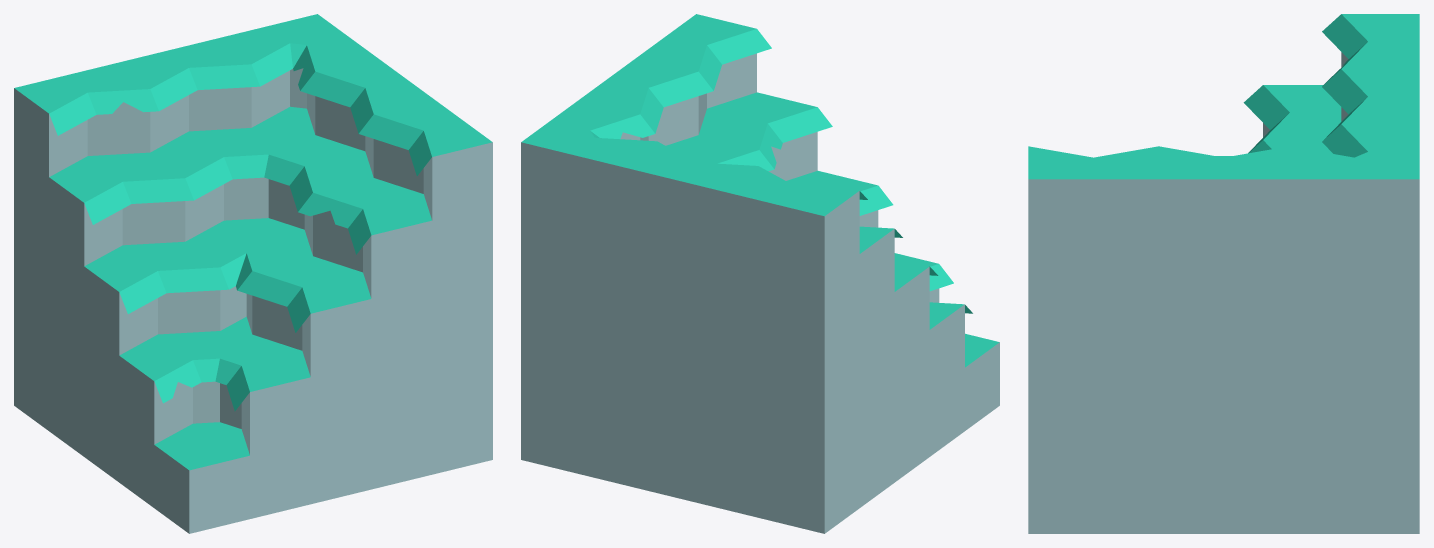
The model's file is cliff_stepsCornerInner_stone.obj.
3 renders of one model, left to right at view 1: azimuth 30°, elevation 25°; view 2: azimuth 150°, elevation 25°; view 3: azimuth 270°, elevation 25°, orthographic. The views are drawn at different scales.
Parts seen in each view (by area): view 1: cliff_stepsCornerInner_stone; view 2: cliff_stepsCornerInner_stone; view 3: cliff_stepsCornerInner_stone.
Boxes of the visible parts, x1,y1,x2,y2 form: cliff_stepsCornerInner_stone: [14, 14, 492, 533]; cliff_stepsCornerInner_stone: [521, 14, 999, 533]; cliff_stepsCornerInner_stone: [1028, 14, 1419, 533].
Bounding box in the file's own units: 1 × 1 × 1.
